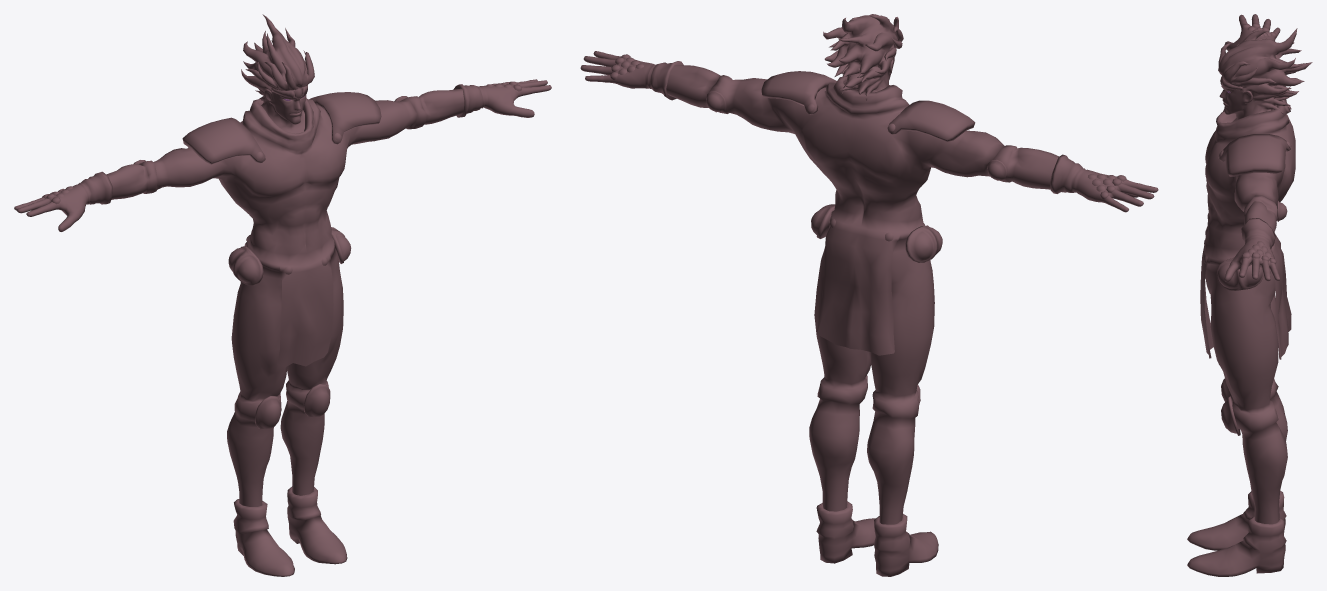
File: starplatinum.obj
3 views of the same model, side by side, from view 1: azimuth 30°, elevation 25°; view 2: azimuth 150°, elevation 25°; view 3: azimuth 270°, elevation 25° (orthographic). The views are drawn at different scales.
Visible parts, largest first — view 1: sp_starP1; view 2: sp_starP1; view 3: sp_starP1.
Boxes of the visible parts, bbox=[...] form: sp_starP1: bbox=[14, 14, 551, 576]; sp_starP1: bbox=[580, 14, 1158, 576]; sp_starP1: bbox=[1187, 14, 1312, 576].
Bounding box in the file's own units: 80.55 × 75.34 × 16.28.
